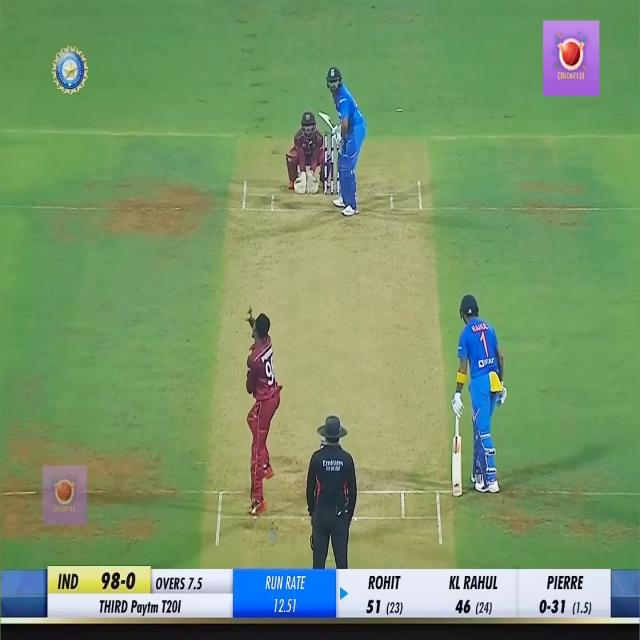fully_visible: (131, 593, 163, 617)
